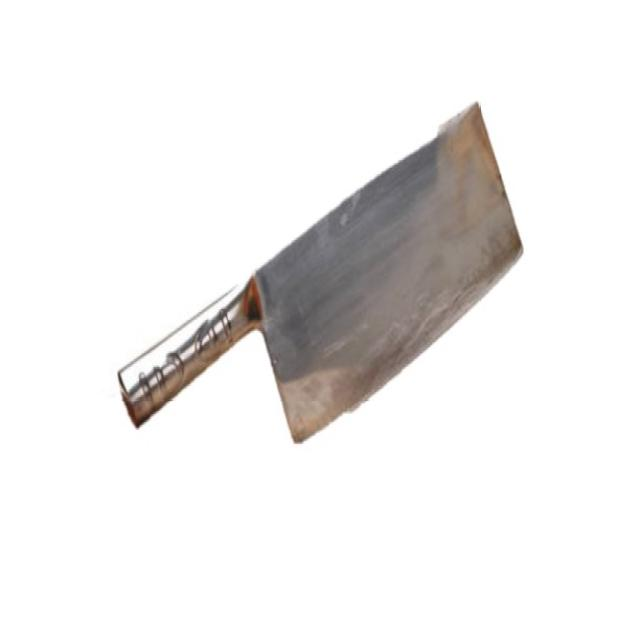knife: (116, 96, 524, 494)
